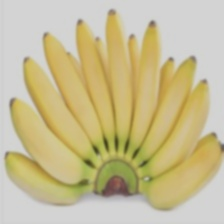banana: (24, 7, 207, 178)
